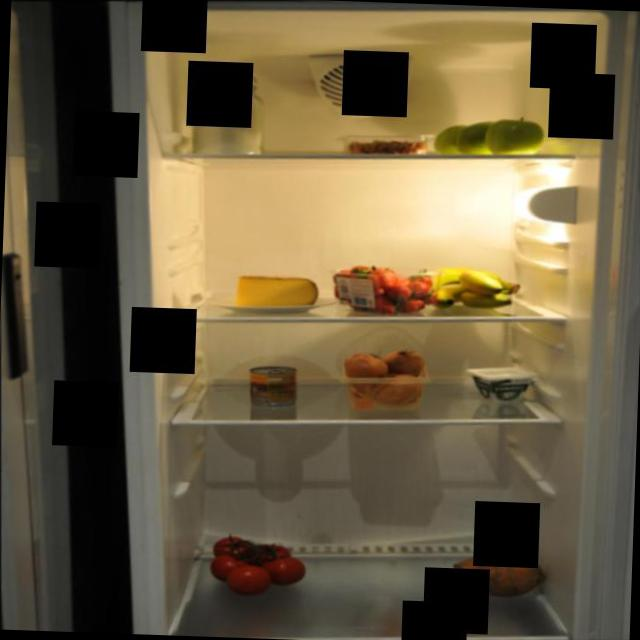Cebolla: (338, 344, 428, 408)
Gambas/Langostinos: (343, 130, 433, 158)
Manzana: (426, 108, 552, 158)
Plátano: (426, 264, 526, 312)
Queso: (230, 270, 322, 314)
Tomate: (204, 528, 312, 600)
